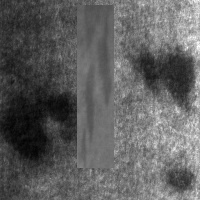inclusion: (77, 5, 114, 168)
patches: (2, 84, 51, 166), (133, 45, 194, 108), (41, 90, 83, 143), (164, 164, 197, 194)
